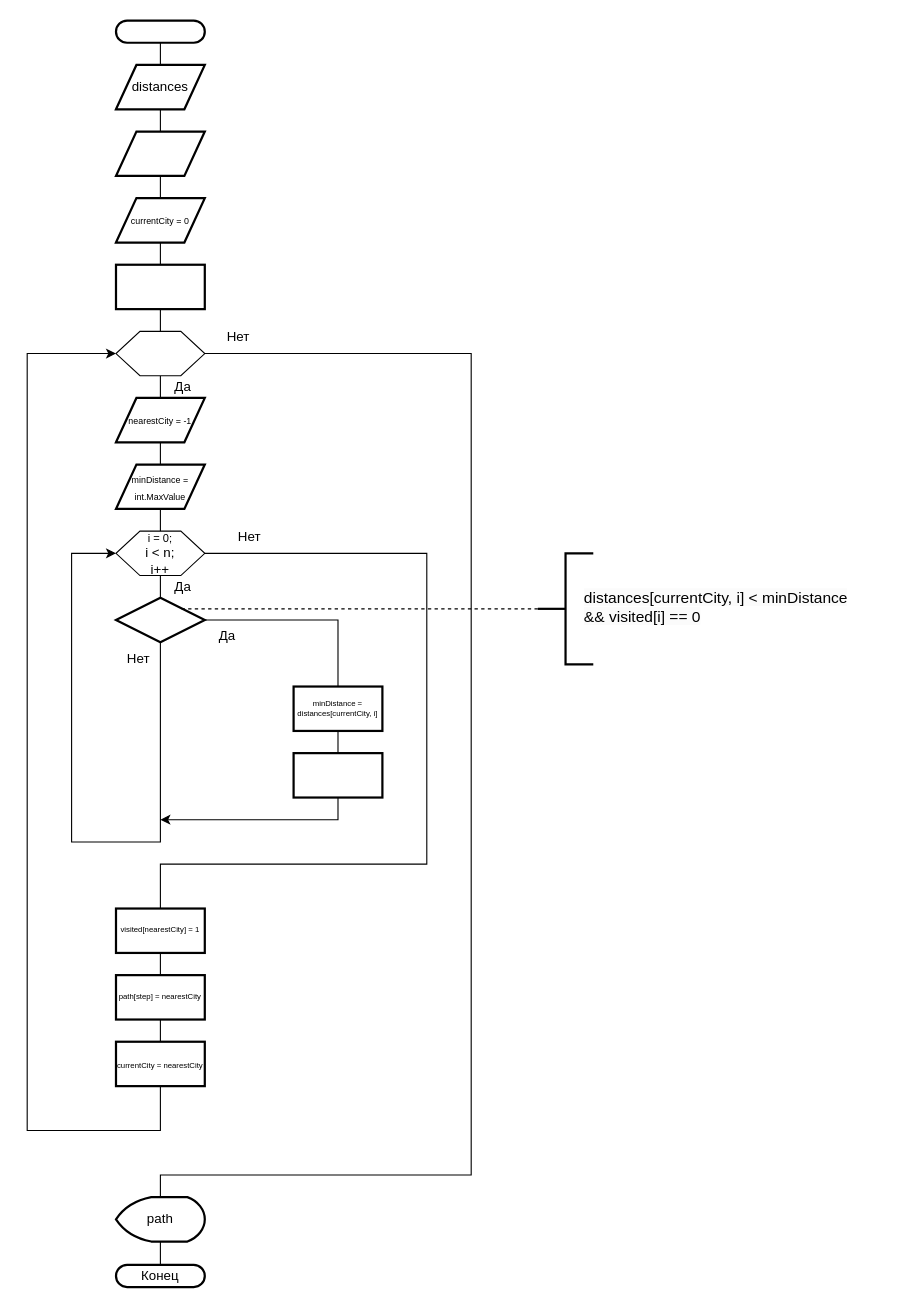
Some shapes in this 912 by 1306 pixel diagram are drawn without their labels. The shapes that lost their labels are listed below. From the top down, each one's box as (x1, y1, x2, y2) in pixels, then its label:
(114, 19, 205, 43): Начало
(114, 130, 205, 176): visited, path
(114, 263, 205, 310): visited[currentCity] = 1, path[0] = currentCity
(115, 330, 205, 376): step = 1; step < n; step++
(292, 751, 383, 798): nearestCity = i
